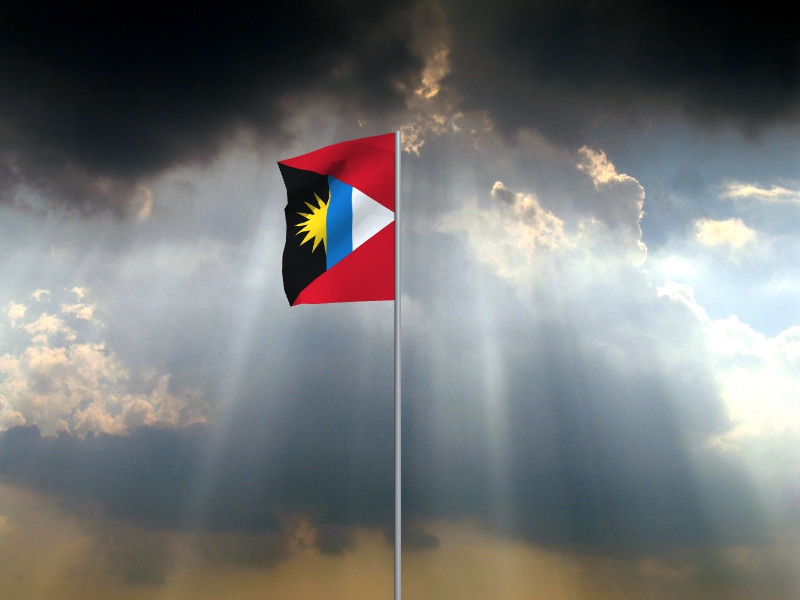ag: (276, 134, 395, 309)
